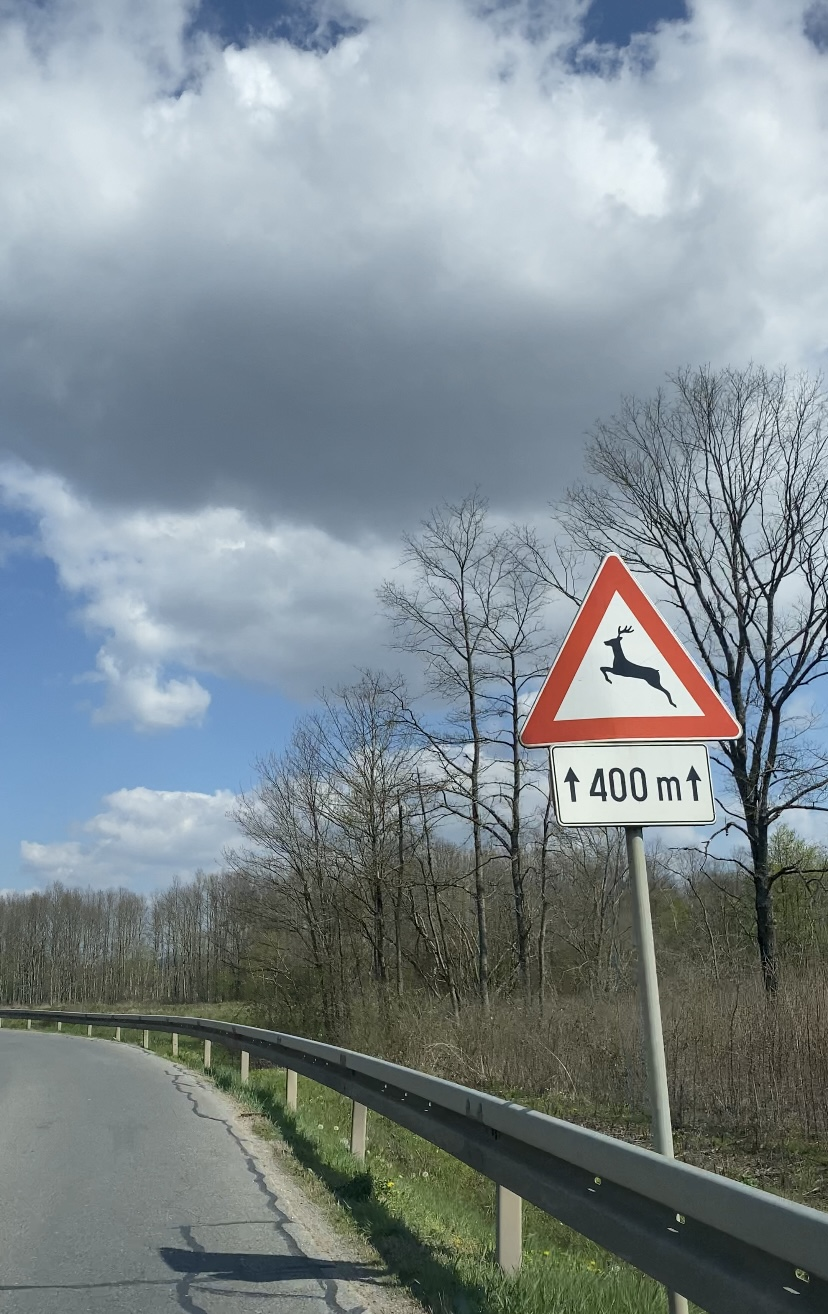Divljač na cesti: (519, 552, 744, 747)
